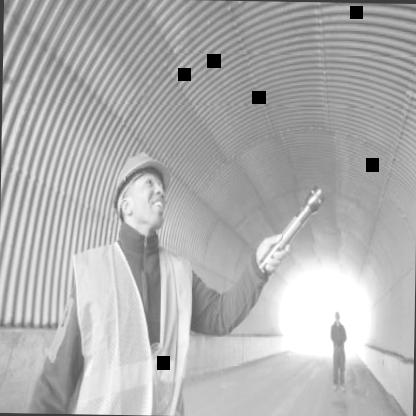helmet: (109, 143, 176, 244)
